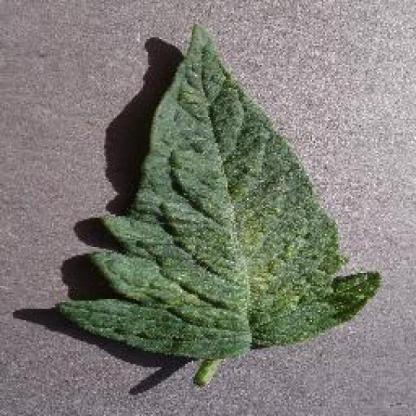Tomato_Spider_Mites: (56, 24, 376, 359)
